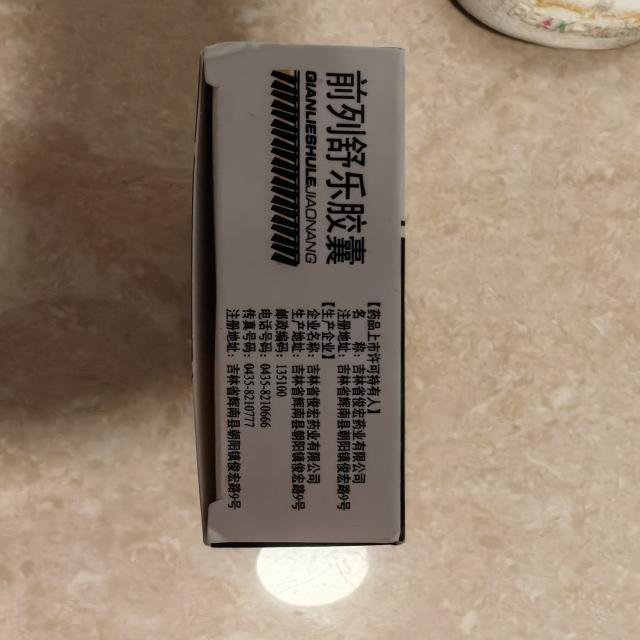box: (183, 35, 416, 556)
